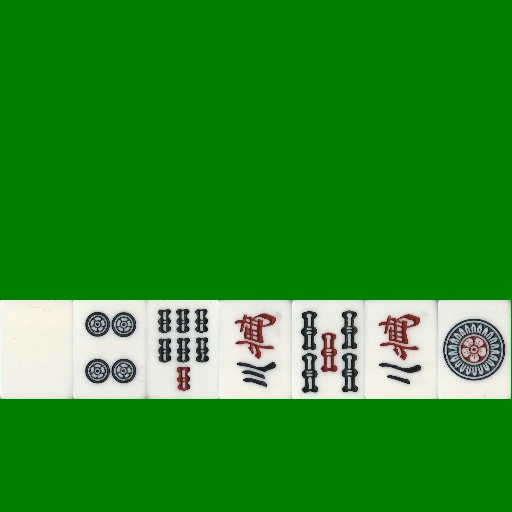1p: (438, 300, 511, 399)
2m: (365, 300, 438, 399)
3m: (219, 300, 292, 399)
4p: (73, 300, 146, 399)
5s: (292, 300, 365, 399)
7s: (146, 300, 219, 399)
white: (0, 300, 73, 399)
